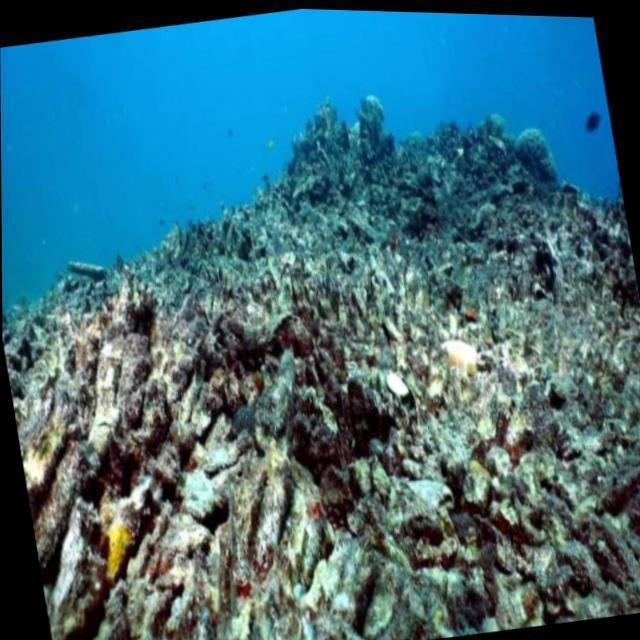Dead Coral: (30, 149, 640, 640)
